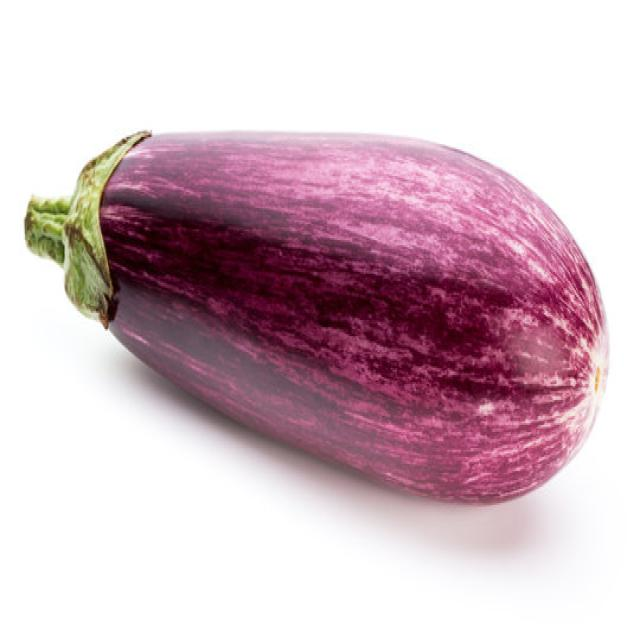Eggplant: (24, 126, 610, 505)
